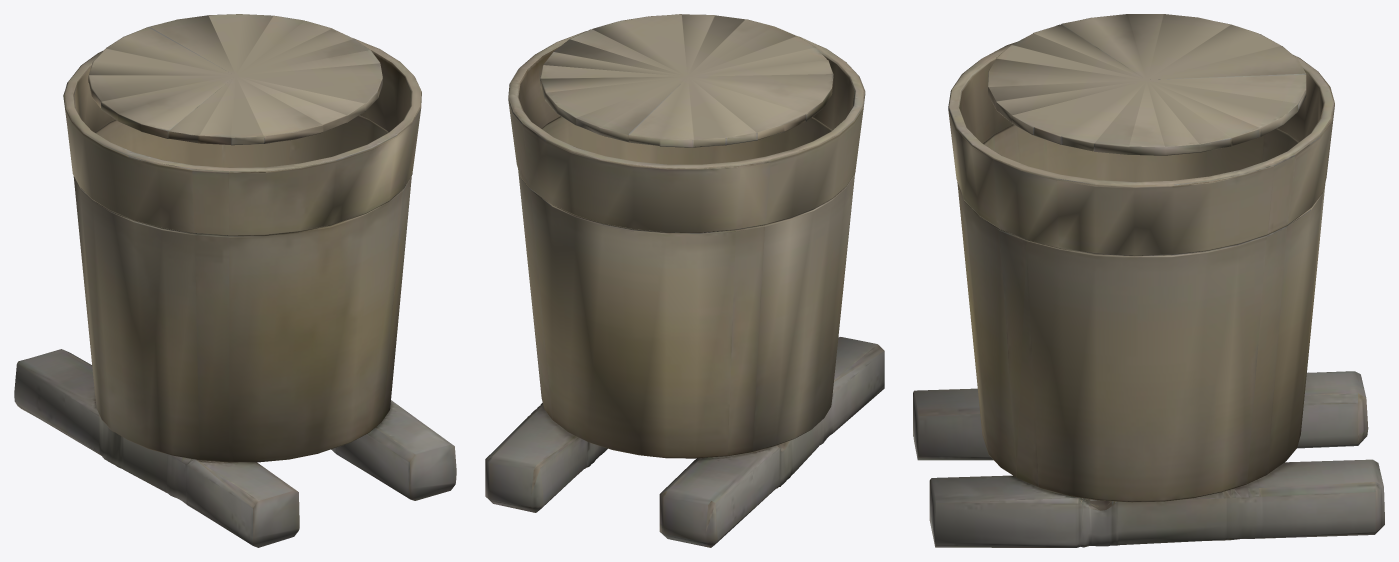
Rendered from caixa_dagua_fibra.glb.
3 views of the same model, side by side, from view 1: azimuth 30°, elevation 25°; view 2: azimuth 150°, elevation 25°; view 3: azimuth 270°, elevation 25° (orthographic). The views are drawn at different scales.
Parts seen in each view (by area): view 1: Weathered Favela Water Tank; view 2: Weathered Favela Water Tank; view 3: Weathered Favela Water Tank.
Boxes of the visible parts, x1,y1,x2,y2 form: Weathered Favela Water Tank: (14, 14, 456, 547); Weathered Favela Water Tank: (485, 14, 884, 547); Weathered Favela Water Tank: (913, 14, 1384, 547).
Bounding box in the file's own units: 0.8262 × 0.9512 × 0.998.
Materials: 1 (1 with a texture image).
